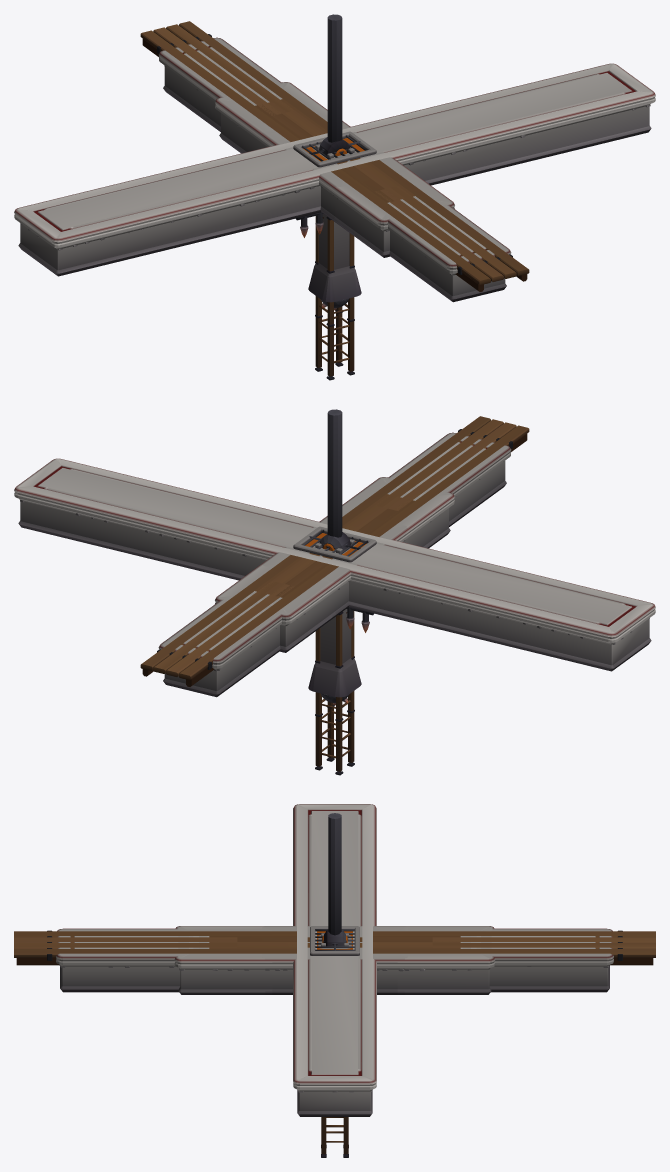
The model's file is fortress-3-Bb0IM8Ob.glb.
3 views of the same model, one above another, from view 1: azimuth 30°, elevation 25°; view 2: azimuth 150°, elevation 25°; view 3: azimuth 270°, elevation 25° (orthographic). The views are drawn at different scales.
Visible parts, largest first — view 1: block_47.29999999999927x2x6#0, block_4x2x46_plank#0, block_5x2x40#1, block_6x2x23#0, truss_16#0, support_0_square#0, block_44x2x4_grate#0, press_6x6x2#0, beam_2x1.5x14#0, beam_2.5x1.5x18_plank#1, jetVent_4x3#0, block_6x2x11#0 (+1 smaller); view 2: block_47.29999999999927x2x6#0, block_4x2x46_plank#0, block_5x2x40#1, block_6x2x23#0, truss_16#0, support_0_square#0, block_44x2x4_grate#0, press_6x6x2#0, beam_2x1.5x14#0, beam_2.5x1.5x18_plank#1, jetVent_4x3#0, block_6x2x11#0 (+1 smaller); view 3: block_47.29999999999927x2x6#0, block_5x2x40#1, block_4x2x46_plank#0, block_6x2x23#0, block_44x2x4_grate#0, press_6x6x2#0, beam_2x1.5x14#0, block_6x2x10#1, beam_2.5x1.5x18_plank#1, jetVent_4x3#0, block_6x2x11#0, truss_16#0.
Boxes of the visible parts, x1,y1,x2,y2 form: block_47.29999999999927x2x6#0: (14,63,655,276); block_4x2x46_plank#0: (140,21,529,291); block_5x2x40#1: (158,37,511,302); block_6x2x23#0: (215,82,454,257); truss_16#0: (315,144,354,380); support_0_square#0: (308,146,361,302); block_44x2x4_grate#0: (44,74,626,229); press_6x6x2#0: (296,14,347,237); beam_2x1.5x14#0: (272,110,397,191); beam_2.5x1.5x18_plank#1: (254,99,415,202); jetVent_4x3#0: (293,131,376,167); block_6x2x11#0: (262,115,407,224); block_47.29999999999927x2x6#0: (14,458,655,671); block_4x2x46_plank#0: (140,416,529,686); block_5x2x40#1: (158,432,511,697); block_6x2x23#0: (215,477,454,652); truss_16#0: (315,539,354,775); support_0_square#0: (308,541,361,697); block_44x2x4_grate#0: (43,469,625,624); press_6x6x2#0: (322,409,373,632); beam_2x1.5x14#0: (272,505,397,586); beam_2.5x1.5x18_plank#1: (254,494,414,597); jetVent_4x3#0: (293,526,376,562); block_6x2x11#0: (262,510,407,619); block_47.29999999999927x2x6#0: (293,804,376,1116); block_5x2x40#1: (56,928,613,992); block_4x2x46_plank#0: (14,930,655,965); block_6x2x23#0: (174,926,495,994); block_44x2x4_grate#0: (308,814,361,1072); press_6x6x2#0: (322,813,347,945); beam_2x1.5x14#0: (237,937,432,947); block_6x2x10#1: (272,931,397,994); beam_2.5x1.5x18_plank#1: (209,936,460,949); jetVent_4x3#0: (310,926,359,955); block_6x2x11#0: (262,926,407,994); truss_16#0: (321,933,348,1157).
Bounding box in the file's own units: 47.3 × 26.58 × 46.
